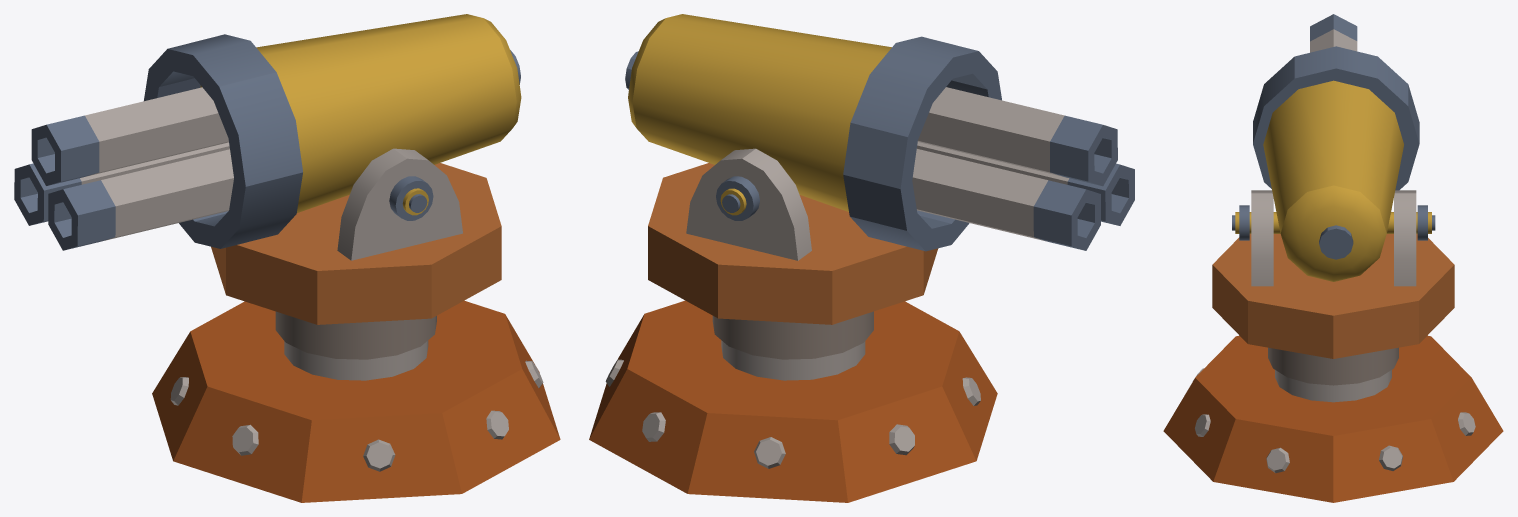
The model's file is turret.fbx.
3 renders of one model, left to right at view 1: azimuth 30°, elevation 25°; view 2: azimuth 150°, elevation 25°; view 3: azimuth 270°, elevation 25°, orthographic. The views are drawn at different scales.
Parts seen in each view (by area): view 1: Cylinder, Cylinder.016, Cylinder.022; view 2: Cylinder, Cylinder.016, Cylinder.022; view 3: Cylinder, Cylinder.016, Cylinder.022.
Boxes of the visible parts, <box> form: Cylinder: <box>152,148,560,502</box>; Cylinder.016: <box>144,14,521,248</box>; Cylinder.022: <box>14,87,233,250</box>; Cylinder: <box>589,148,997,502</box>; Cylinder.016: <box>625,14,1001,251</box>; Cylinder.022: <box>912,87,1134,250</box>; Cylinder: <box>1163,190,1503,502</box>; Cylinder.016: <box>1253,46,1419,281</box>; Cylinder.022: <box>1310,14,1357,52</box>.
Size of the model in its own units: 6.36 by 4.93 by 4.72.
